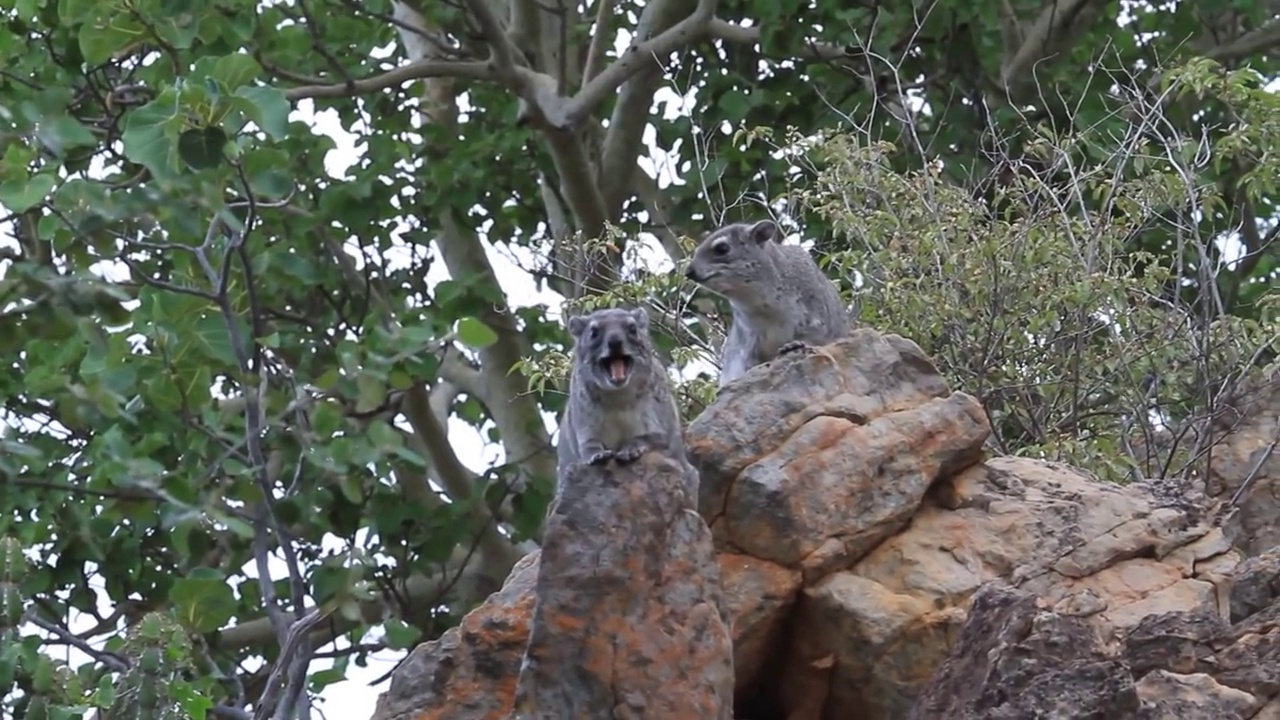Rock Hyrex: (685, 220, 849, 385), (553, 307, 684, 495)
